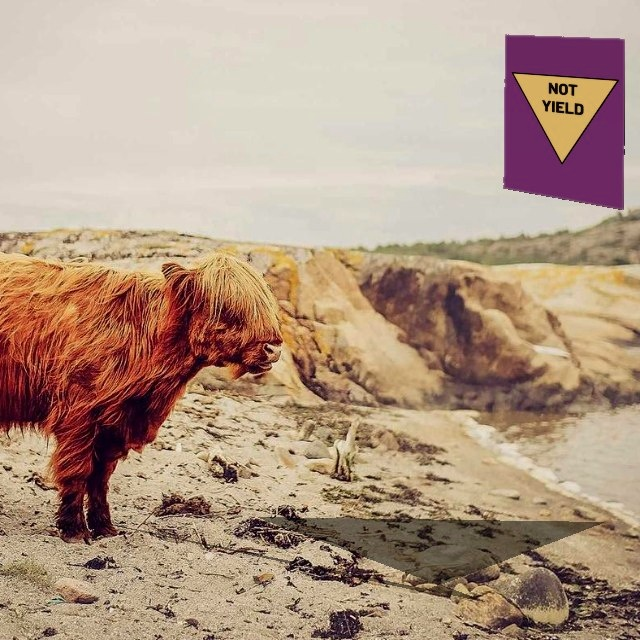NOT_YIELD: (510, 72, 620, 173)
